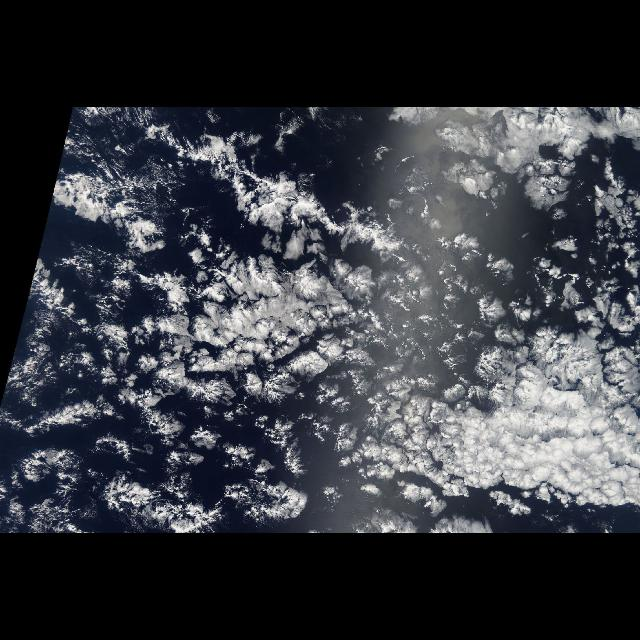Flower: (58, 169, 638, 533)
